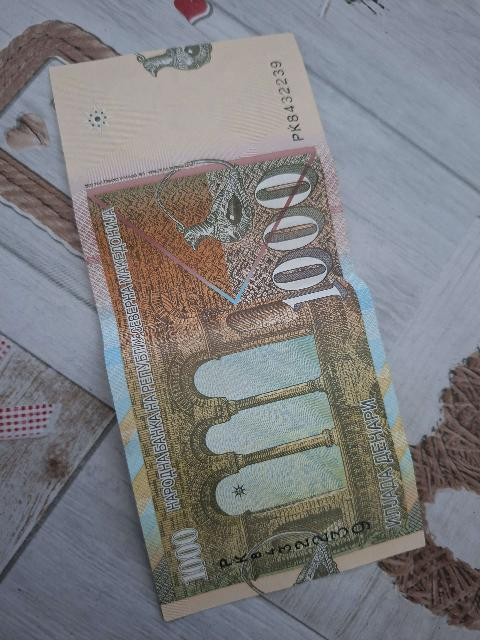1000_note: (52, 35, 423, 619)
